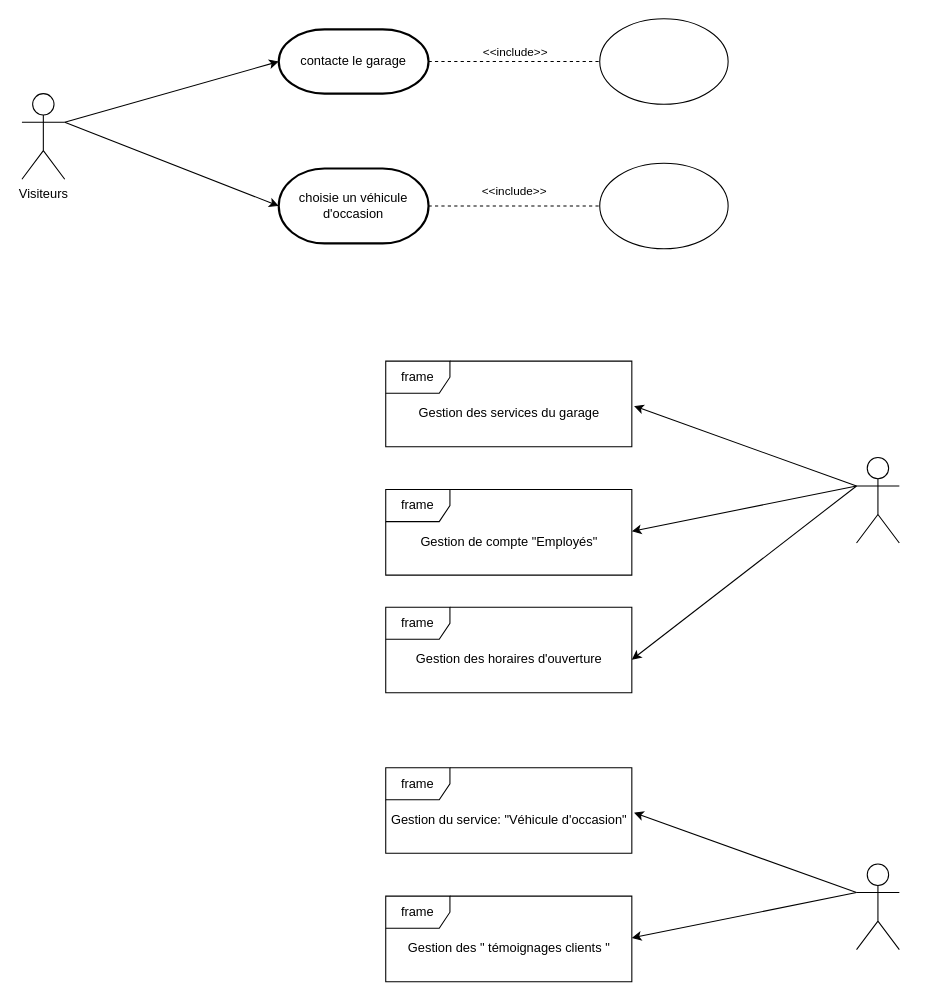
Image size: 937x1000. Some labels were removed from this diagram. The centre of each missing label's shape, as x and y in pixels:
"Administrateur" belongs at (x=877, y=499).
"Employés" belongs at (x=877, y=906).
"à travers un formulaire de contact en ligne" belongs at (x=663, y=61).
"à travers un système de filtres" belongs at (x=663, y=205).
